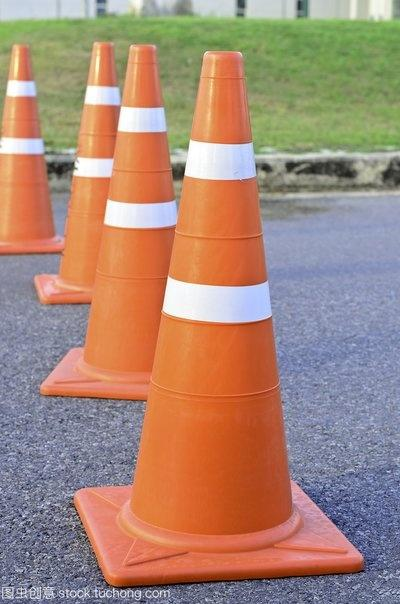cone_barrel: (116, 43, 303, 547), (74, 44, 177, 384), (52, 40, 121, 292)
